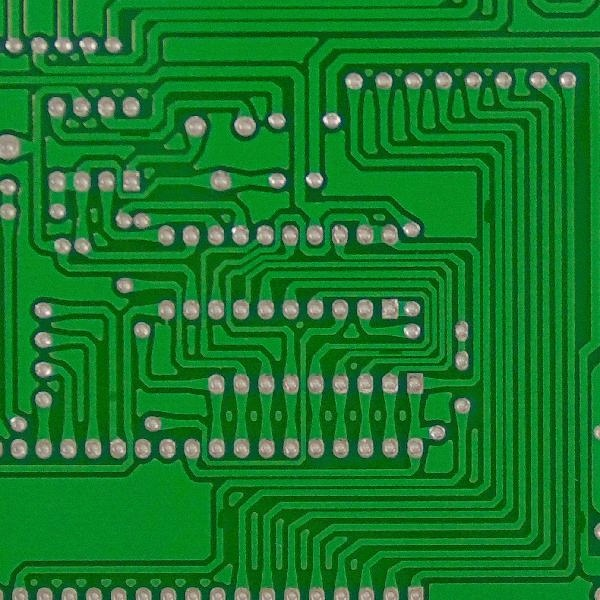mouse_bite: (213, 504, 228, 534), (577, 508, 591, 539), (481, 196, 493, 229), (115, 130, 154, 140), (377, 347, 405, 359)
